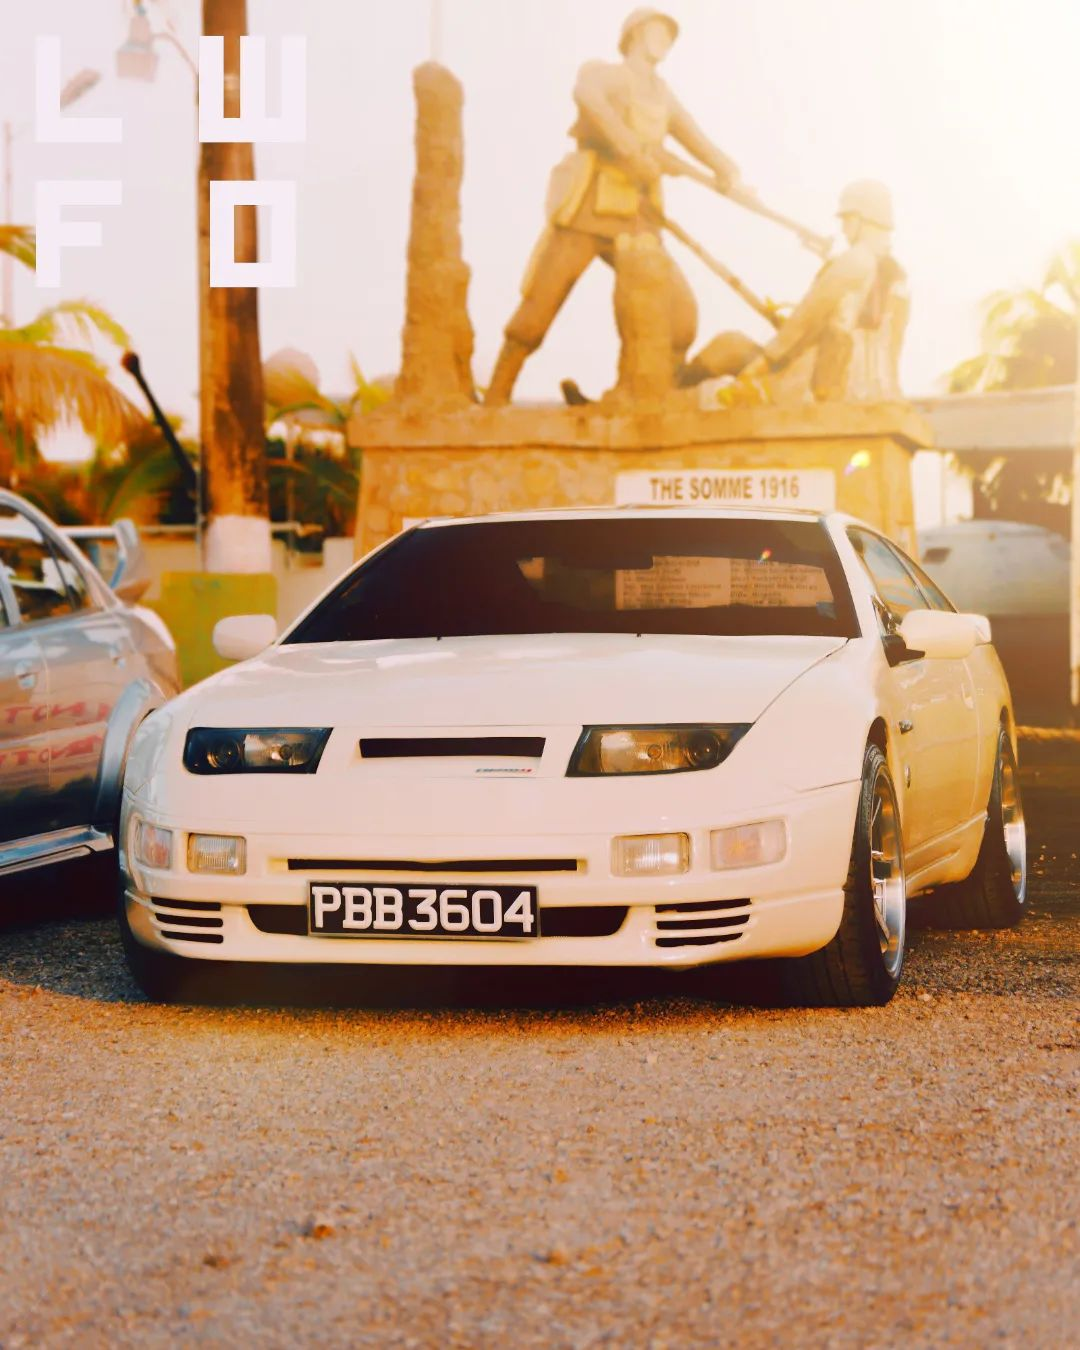License-Plate: (309, 881, 539, 934)
